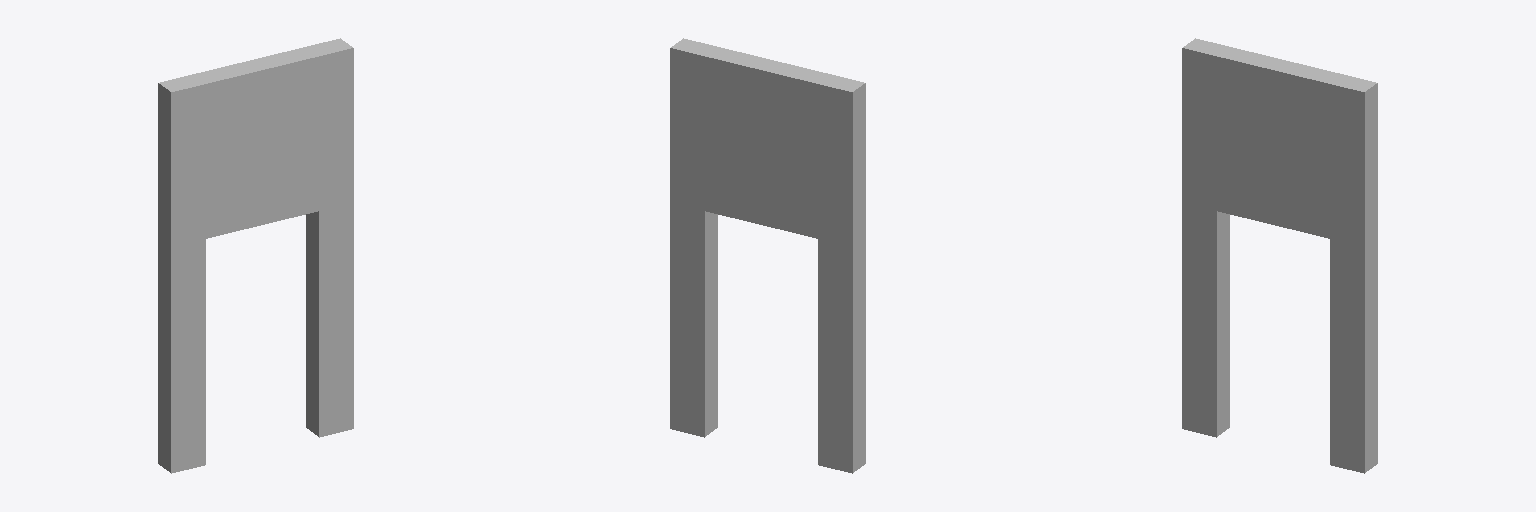
Rendered from woodWallHalfDoorFrame.obj.
3 renders of one model, left to right at view 1: azimuth 30°, elevation 25°; view 2: azimuth 150°, elevation 25°; view 3: azimuth 330°, elevation 25°, orthographic.
Visible parts, largest first — view 1: woodWallHalfDoorFrame; view 2: woodWallHalfDoorFrame; view 3: woodWallHalfDoorFrame.
Boxes of the visible parts, box(x1,y1,x2,y2) form: woodWallHalfDoorFrame: box(158, 38, 353, 473); woodWallHalfDoorFrame: box(670, 38, 865, 473); woodWallHalfDoorFrame: box(1182, 38, 1377, 473).
Bounding box in the file's own units: 32 × 64 × 4.